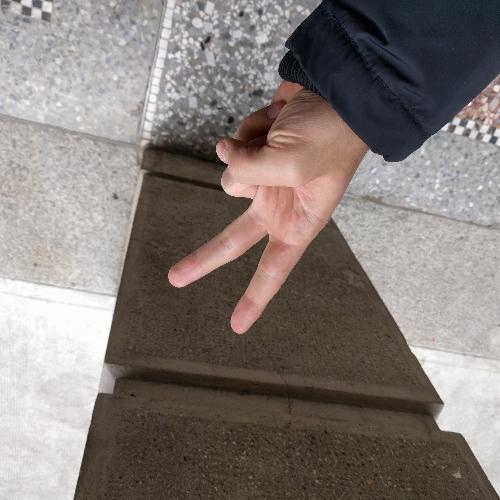scissors: (162, 92, 372, 334)
